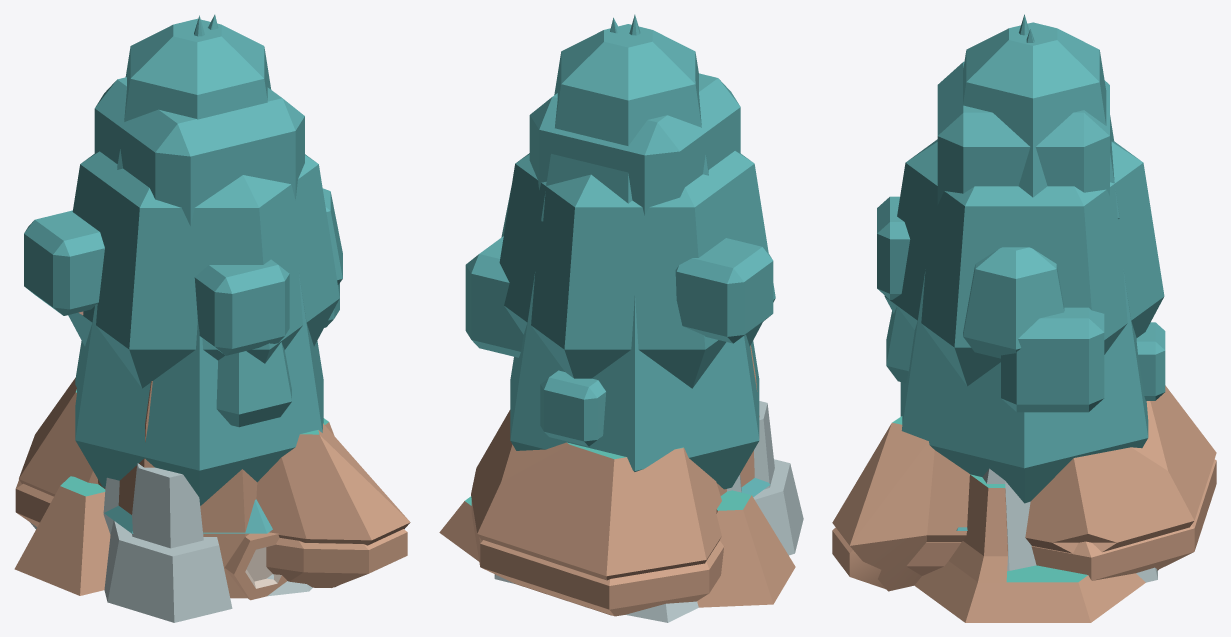
File: props.glb
3 views of the same model, side by side, from view 1: azimuth 30°, elevation 25°; view 2: azimuth 150°, elevation 25°; view 3: azimuth 270°, elevation 25° (orthographic).
Visible parts, largest first — view 1: tree_oak_dark, tree_detailed_dark, tree_fat_darkh, tree_thin_dark, rock_largeB, stone_tallB, rock_tallA, rock_largeA, log, tree_pineRoundA; view 2: tree_oak_dark, tree_detailed_dark, rock_largeB, tree_fat_darkh, tree_thin_dark, rock_largeA, rock_tallA, stone_tallB; view 3: tree_oak_dark, rock_largeB, tree_detailed_dark, tree_thin_dark, tree_fat_darkh, rock_tallA, rock_largeA, stone_tallB.
Part boxes in pixels (x1,y1,x2,y2): tree_oak_dark: (68,151,339,388); tree_detailed_dark: (24,77,339,355); tree_fat_darkh: (75,271,323,505); tree_thin_dark: (117,18,342,427); rock_largeB: (19,378,410,587); stone_tallB: (30,463,312,622); rock_tallA: (14,381,334,598); rock_largeA: (15,480,407,587); log: (224,532,286,600); tree_pineRoundA: (104,499,272,533); tree_oak_dark: (499,151,775,388); tree_detailed_dark: (465,73,773,446); rock_largeB: (471,410,721,615); tree_fat_darkh: (510,272,759,489); tree_thin_dark: (501,24,708,237); rock_largeA: (471,500,723,616); rock_tallA: (439,345,795,607); stone_tallB: (494,401,803,622); tree_oak_dark: (884,139,1164,386); rock_largeB: (832,385,1216,591); tree_detailed_dark: (877,61,1165,412); tree_thin_dark: (886,22,1119,383); tree_fat_darkh: (900,269,1148,503); rock_tallA: (914,474,1145,622); rock_largeA: (832,459,1216,589); stone_tallB: (982,468,1157,582).
Bounding box in the file's own units: 0.983 × 1.55 × 1.02.
